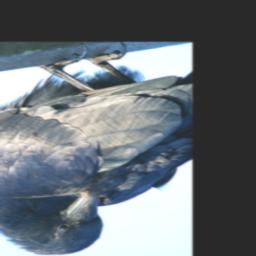Crow: (0, 43, 193, 256)
